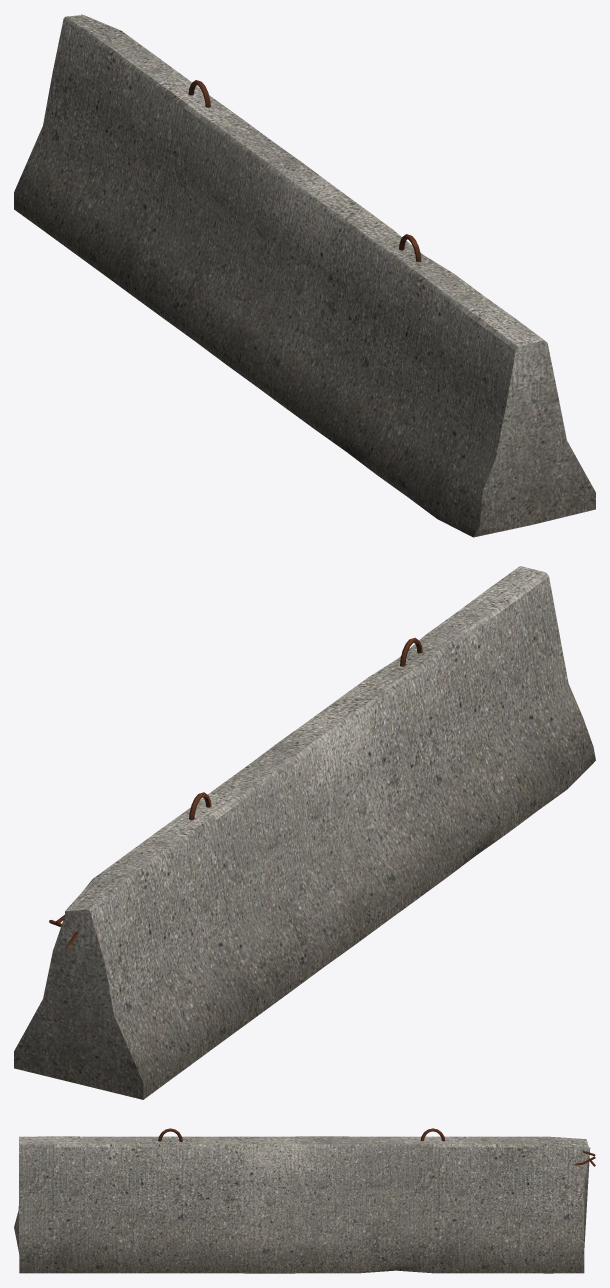
Rendered from jersey_barrier.glb.
3 renders of one model, top to bottom at view 1: azimuth 30°, elevation 25°; view 2: azimuth 150°, elevation 25°; view 3: azimuth 270°, elevation 25°, orthographic. The views are drawn at different scales.
Parts seen in each view (by area): view 1: jersey_barrier_concrete; view 2: jersey_barrier_concrete, jersey_barrier_rust_metal; view 3: jersey_barrier_concrete, jersey_barrier_rust_metal.
Boxes of the visible parts, x1,y1,x2,y2 form: jersey_barrier_concrete: [14, 14, 595, 537]; jersey_barrier_concrete: [14, 566, 595, 1099]; jersey_barrier_rust_metal: [49, 637, 422, 948]; jersey_barrier_concrete: [14, 1136, 590, 1273]; jersey_barrier_rust_metal: [158, 1128, 595, 1166].
Bounding box in the file's own units: 0.6048 × 0.8981 × 3.77.
Materials: 2 (2 with a texture image).
